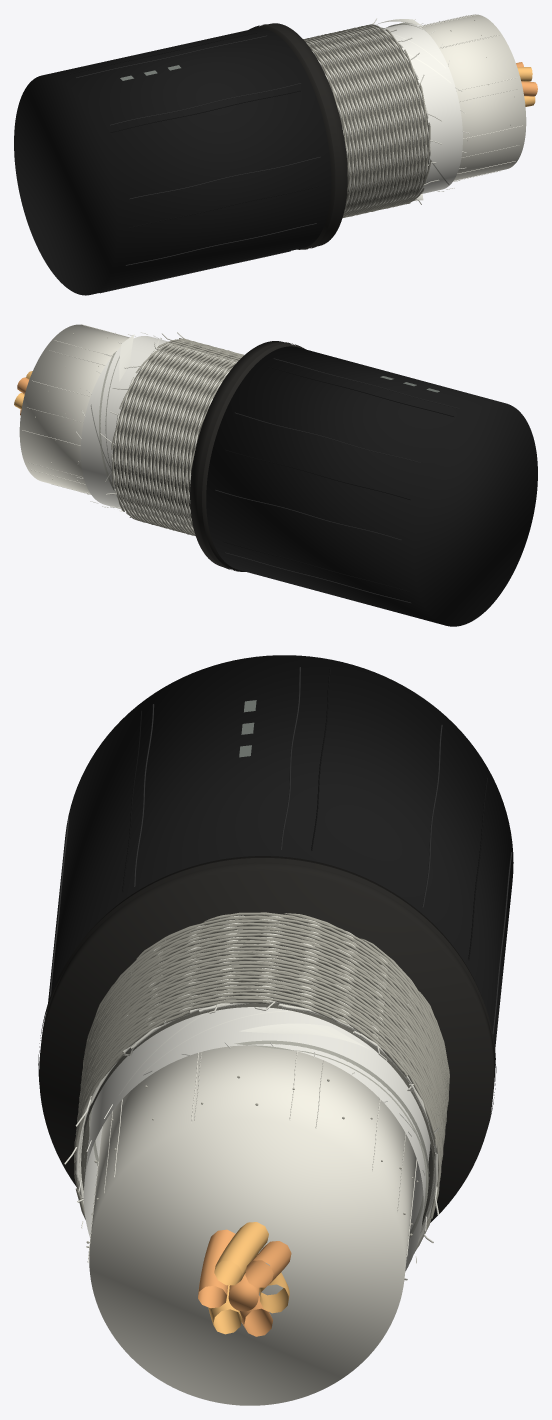
The model's file is rf-belden9913f-macro.glb.
3 renders of one model, top to bottom at view 1: azimuth 30°, elevation 25°; view 2: azimuth 150°, elevation 25°; view 3: azimuth 270°, elevation 25°, orthographic. The views are drawn at different scales.
Visible parts, largest first — view 1: macro jacket body, macro dielectric exposed core, shadow seen through braid windows, continuous foil sleeve under braid, thick jacket cut wall, rounded jacket cut lip, macro braid shadow carrier 05 strand 1, macro braid shadow carrier 06 strand 1, macro braid shadow carrier 04 strand 1, macro braid shadow carrier 03 strand 1, macro braid shadow carrier 02 strand 1, macro braid shadow carrier 07 strand 1 (+12 smaller); view 2: macro jacket body, macro dielectric exposed core, continuous foil sleeve under braid, shadow seen through braid windows, thick jacket cut wall, rounded jacket cut lip, macro braid shadow carrier 01 strand 1, macro braid shadow carrier 14 strand 1, macro braid shadow carrier 13 strand 1, macro braid shadow carrier 02 strand 1, macro braid shadow carrier 12 strand 1, macro braid shadow carrier 11 strand 1 (+10 smaller); view 3: macro jacket body, macro dielectric exposed core, thick jacket cut wall, continuous foil sleeve under braid, rounded jacket cut lip, macro braid shadow carrier 02 strand 3, macro braid shadow carrier 01 strand 3, macro braid shadow carrier 03 strand 3, macro braid shadow carrier 12 strand 3, macro braid shadow carrier 11 strand 3, macro braid shadow carrier 13 strand 3, macro braid shadow carrier 14 strand 3 (+13 smaller).
Part boxes in pixels (x1,y1,x2,y2): macro jacket body: [14, 28, 331, 295]; macro dielectric exposed core: [420, 14, 526, 180]; shadow seen through braid windows: [310, 31, 429, 208]; continuous foil sleeve under braid: [384, 23, 462, 193]; thick jacket cut wall: [249, 23, 347, 249]; rounded jacket cut lip: [253, 24, 340, 249]; macro braid shadow carrier 05 strand 1: [317, 24, 415, 213]; macro braid shadow carrier 06 strand 1: [321, 29, 418, 216]; macro braid shadow carrier 04 strand 1: [314, 25, 412, 209]; macro braid shadow carrier 03 strand 1: [310, 26, 407, 210]; macro braid shadow carrier 02 strand 1: [305, 26, 404, 209]; macro braid shadow carrier 07 strand 1: [326, 34, 422, 217]; macro jacket body: [206, 346, 537, 626]; macro dielectric exposed core: [19, 324, 128, 494]; continuous foil sleeve under braid: [80, 336, 168, 509]; shadow seen through braid windows: [112, 346, 234, 526]; thick jacket cut wall: [190, 341, 305, 571]; rounded jacket cut lip: [197, 342, 300, 571]; macro braid shadow carrier 01 strand 1: [116, 343, 240, 533]; macro braid shadow carrier 14 strand 1: [119, 344, 236, 534]; macro braid shadow carrier 13 strand 1: [122, 346, 232, 533]; macro braid shadow carrier 02 strand 1: [112, 343, 242, 531]; macro braid shadow carrier 12 strand 1: [126, 347, 227, 535]; macro braid shadow carrier 11 strand 1: [130, 347, 218, 535]; macro jacket body: [48, 655, 513, 1049]; macro dielectric exposed core: [89, 1045, 416, 1405]; thick jacket cut wall: [39, 856, 495, 1222]; continuous foil sleeve under braid: [83, 1007, 430, 1271]; rounded jacket cut lip: [38, 858, 496, 1126]; macro braid shadow carrier 02 strand 3: [80, 936, 444, 1212]; macro braid shadow carrier 01 strand 3: [83, 933, 445, 1253]; macro braid shadow carrier 03 strand 3: [77, 941, 445, 1138]; macro braid shadow carrier 12 strand 3: [83, 922, 445, 1164]; macro braid shadow carrier 11 strand 3: [79, 919, 447, 1124]; macro braid shadow carrier 13 strand 3: [79, 927, 446, 1155]; macro braid shadow carrier 14 strand 3: [77, 930, 446, 1139].
Size of the model in its own units: 6.51 by 2.83 by 2.94.
